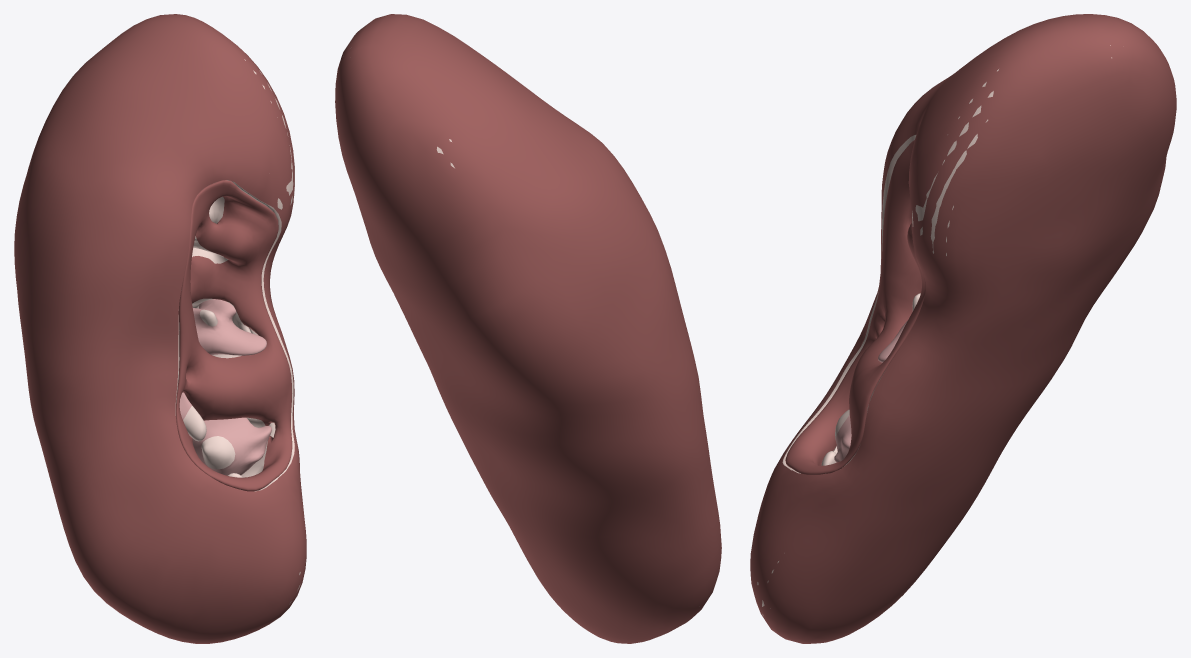
The model's file is kidney-r.glb.
3 renders of one model, left to right at view 1: azimuth 30°, elevation 25°; view 2: azimuth 150°, elevation 25°; view 3: azimuth 270°, elevation 25°, orthographic. The views are drawn at different scales.
Parts seen in each view (by area): view 1: VH_M_kidney_capsule_R, VH_M_hilum_of_kidney_R, VH_M_renal_pyramid_f, VH_M_renal_pyramid_h, VH_M_outer_cortex_of_kidney_R, VH_M_renal_column_R, VH_M_renal_papilla_R_h, VH_M_renal_papilla_R_g; view 2: VH_M_kidney_capsule_R; view 3: VH_M_kidney_capsule_R, VH_M_hilum_of_kidney_R, VH_M_outer_cortex_of_kidney_R.
Part boxes in pixels (bbox=[...]): VH_M_kidney_capsule_R: bbox=[14, 14, 306, 643]; VH_M_hilum_of_kidney_R: bbox=[176, 180, 292, 491]; VH_M_renal_pyramid_f: bbox=[193, 299, 266, 355]; VH_M_renal_pyramid_h: bbox=[192, 417, 271, 475]; VH_M_outer_cortex_of_kidney_R: bbox=[175, 59, 305, 604]; VH_M_renal_column_R: bbox=[192, 196, 267, 477]; VH_M_renal_papilla_R_h: bbox=[201, 436, 235, 469]; VH_M_renal_papilla_R_g: bbox=[183, 405, 206, 441]; VH_M_kidney_capsule_R: bbox=[335, 14, 721, 643]; VH_M_kidney_capsule_R: bbox=[750, 14, 1176, 643]; VH_M_hilum_of_kidney_R: bbox=[785, 140, 925, 474]; VH_M_outer_cortex_of_kidney_R: bbox=[757, 45, 1111, 615].
Size of the model in its own units: 0.0557 by 0.1125 by 0.0661.
